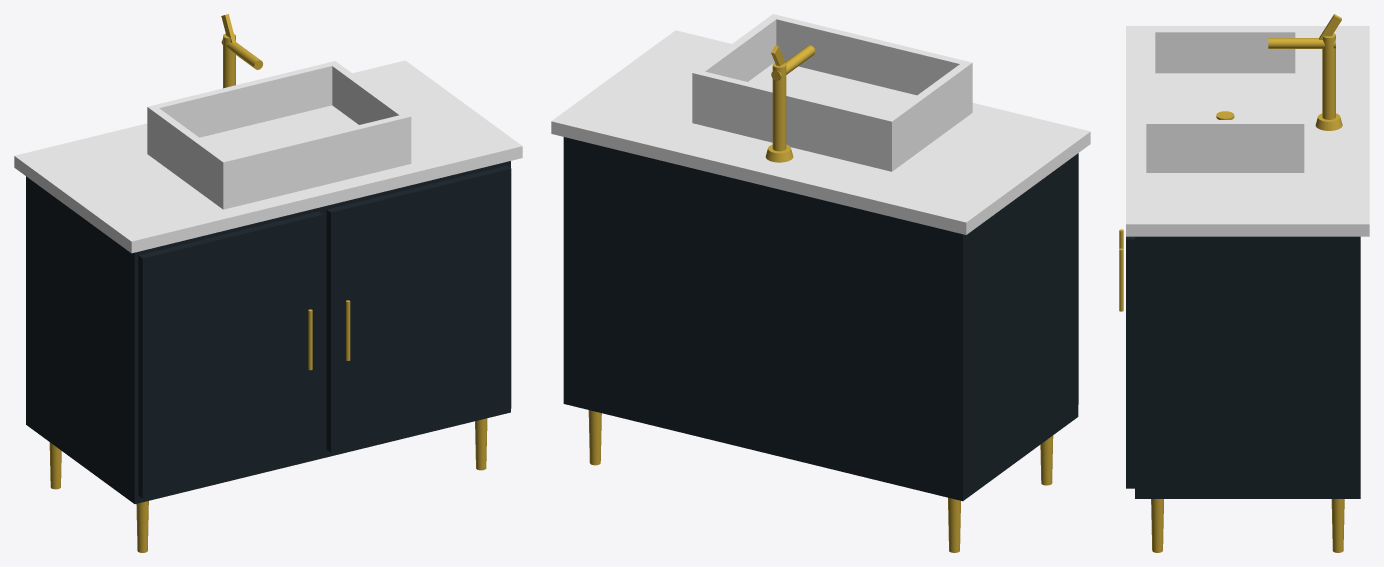
Rendered from 06_Meuble_Lavabo.glb.
3 renders of one model, left to right at view 1: azimuth 30°, elevation 25°; view 2: azimuth 150°, elevation 25°; view 3: azimuth 270°, elevation 25°, orthographic. The views are drawn at different scales.
Parts seen in each view (by area): view 1: MeubleLavabo; view 2: MeubleLavabo; view 3: MeubleLavabo.
Boxes of the visible parts, x1,y1,x2,y2 form: MeubleLavabo: (14, 14, 522, 552); MeubleLavabo: (551, 14, 1090, 552); MeubleLavabo: (1119, 14, 1369, 552).
Size of the model in its own units: 1.04 by 1.1 by 0.555.
